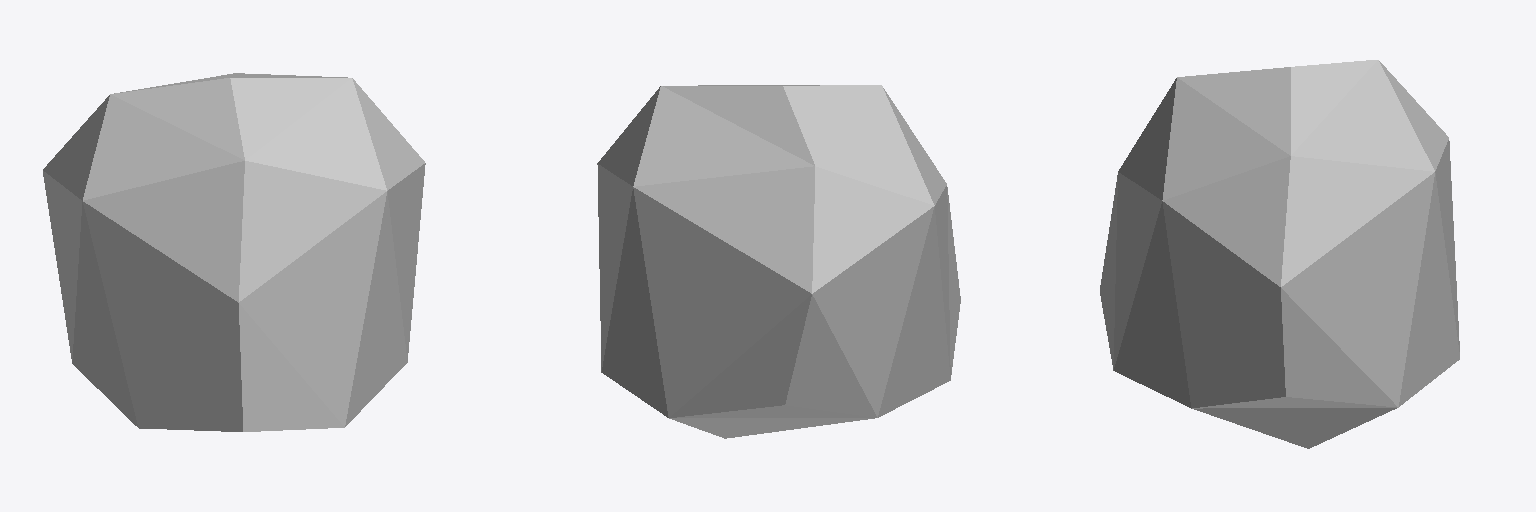
File: Turret_Projectile.obj
3 renders of one model, left to right at view 1: azimuth 30°, elevation 25°; view 2: azimuth 150°, elevation 25°; view 3: azimuth 270°, elevation 25°, orthographic.
Visible parts, largest first — view 1: GeoSphere001; view 2: GeoSphere001; view 3: GeoSphere001.
Boxes of the visible parts, <box> form: GeoSphere001: <box>43,73,425,431</box>; GeoSphere001: <box>597,85,960,438</box>; GeoSphere001: <box>1100,60,1459,448</box>.
Size of the model in its own units: 1.53 by 1.54 by 1.4.